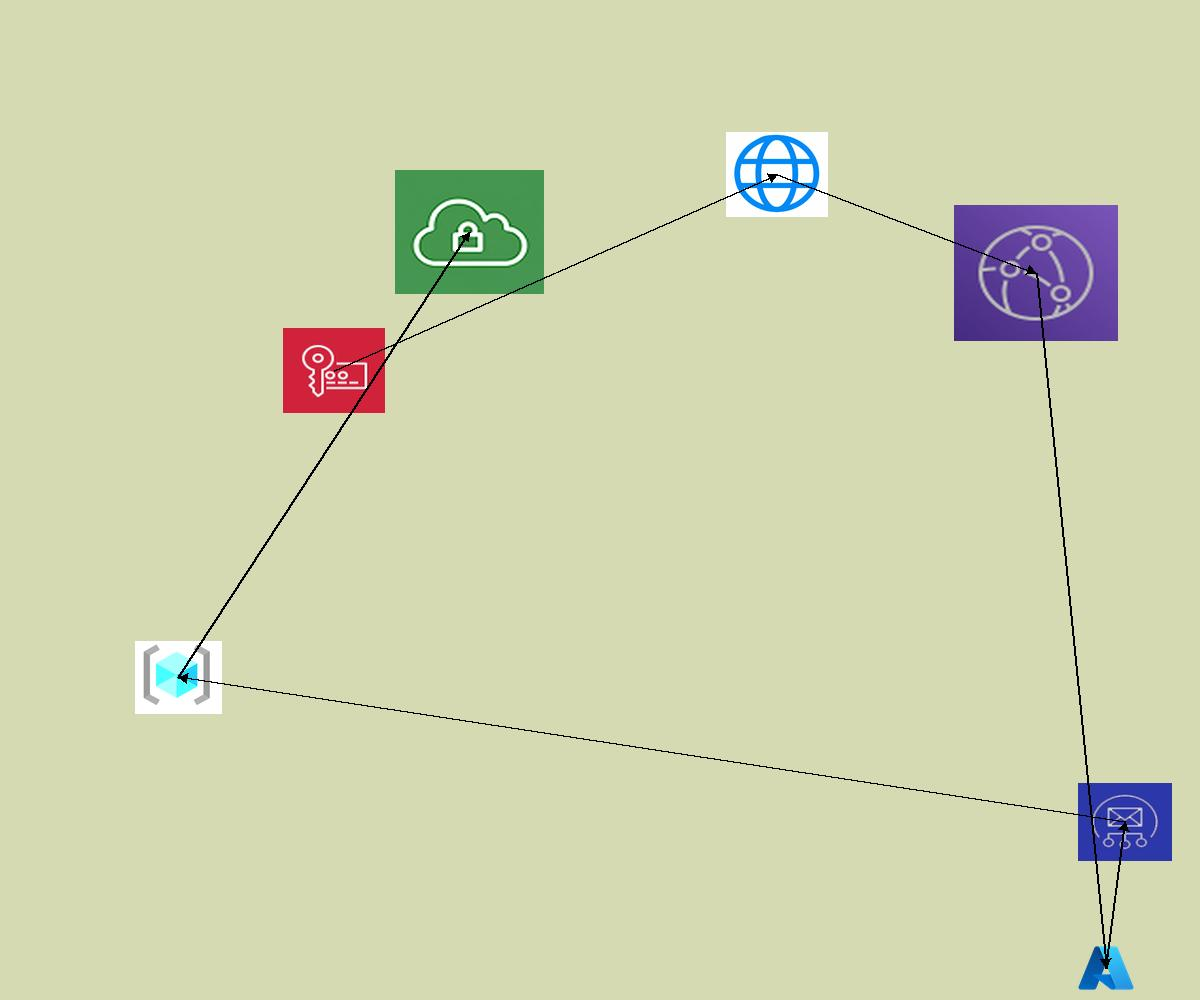AWS-CloudFront: (954, 205, 1118, 341)
AWS-Key-Management-Service: (283, 328, 385, 413)
AWS-Private_vpc: (395, 170, 544, 294)
AWS-Simple-Email-Service: (1078, 783, 1172, 861)
Azure_http: (726, 132, 828, 217)
Azure_resource_group: (135, 641, 222, 714)
Azure_services: (1076, 943, 1136, 993)
